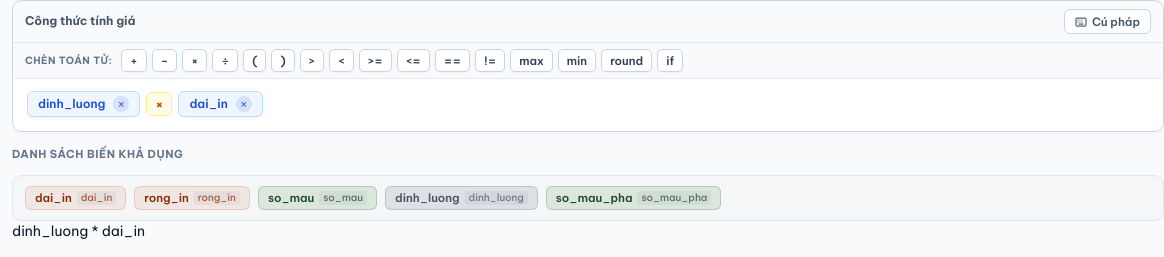
Test case: thao tác trên ô công thức › bấm × trên chip → đúng token đó biến mất, phần còn lại giữ nguyên (handleRemoveToken)
Click the 2nd button titled "Xoá biến dinh_luong" at (121, 104), box x1=113 y1=96 x2=129 y2=112
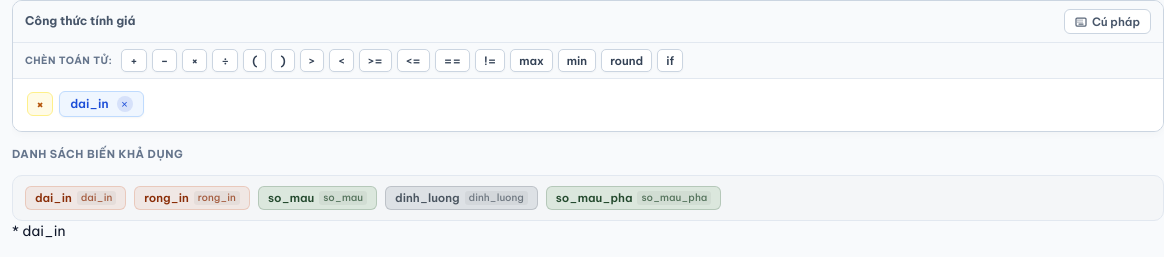
Now the text with test id "ct" reads "* dai_in", box x1=12 y1=222 x2=66 y2=240
